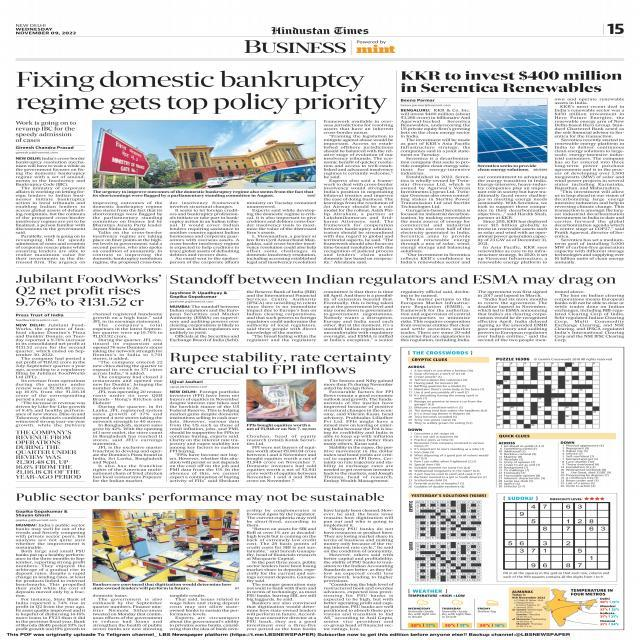Article: (12, 66, 396, 266), (10, 490, 398, 632), (397, 66, 628, 266), (166, 348, 394, 486), (11, 284, 165, 485), (166, 288, 630, 344)
Body: (89, 311, 164, 484), (554, 96, 626, 264), (400, 108, 472, 264), (322, 118, 394, 264), (322, 508, 396, 631), (246, 508, 318, 631), (14, 522, 87, 632), (15, 156, 87, 264), (14, 322, 87, 428), (323, 376, 394, 484), (168, 389, 241, 483), (476, 174, 548, 264), (405, 428, 490, 490), (406, 364, 489, 426), (245, 200, 318, 265), (91, 200, 164, 264), (168, 200, 241, 264), (476, 288, 550, 343), (554, 289, 626, 343), (400, 289, 471, 343), (322, 289, 394, 342), (245, 290, 318, 342), (245, 433, 318, 484), (168, 592, 242, 632), (91, 594, 164, 632), (168, 304, 240, 342), (560, 441, 614, 488), (500, 441, 550, 489)
Date: (15, 27, 78, 35)
Heading: (16, 69, 388, 115), (12, 272, 617, 287), (399, 68, 623, 93), (11, 490, 386, 504), (171, 351, 392, 374)
Highlights: (13, 430, 85, 480), (15, 286, 146, 308), (15, 119, 80, 143)
Image: (92, 120, 316, 190), (92, 509, 238, 582), (503, 502, 608, 570), (496, 361, 599, 429), (476, 97, 547, 162), (510, 588, 623, 628), (410, 597, 508, 628), (248, 379, 317, 422), (417, 542, 483, 581), (416, 500, 480, 540)
Name: (244, 37, 346, 54), (266, 26, 372, 36)
